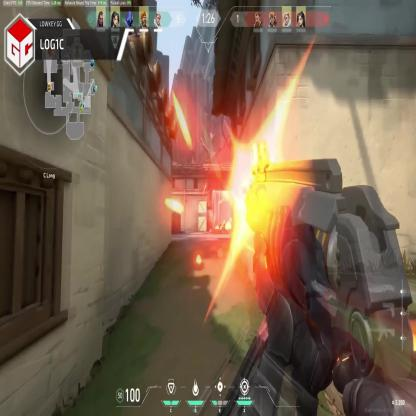enemy: (209, 214, 214, 233)
enemy_head: (210, 214, 213, 219)
